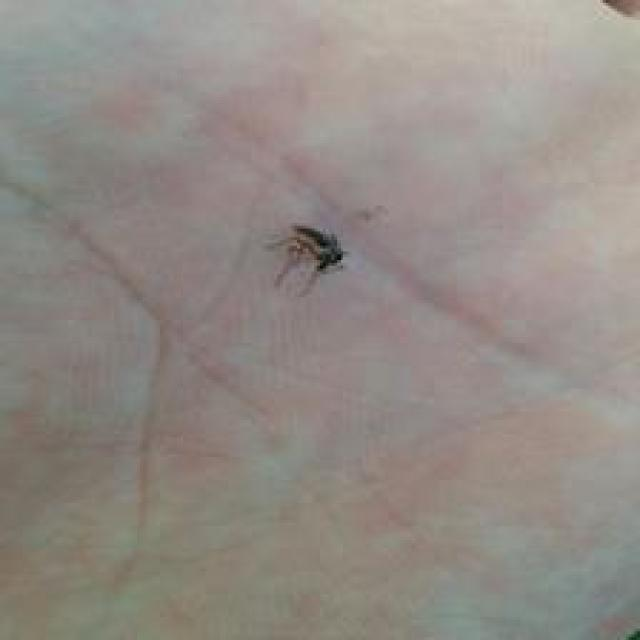Aedes albopictus: (266, 221, 348, 296)
